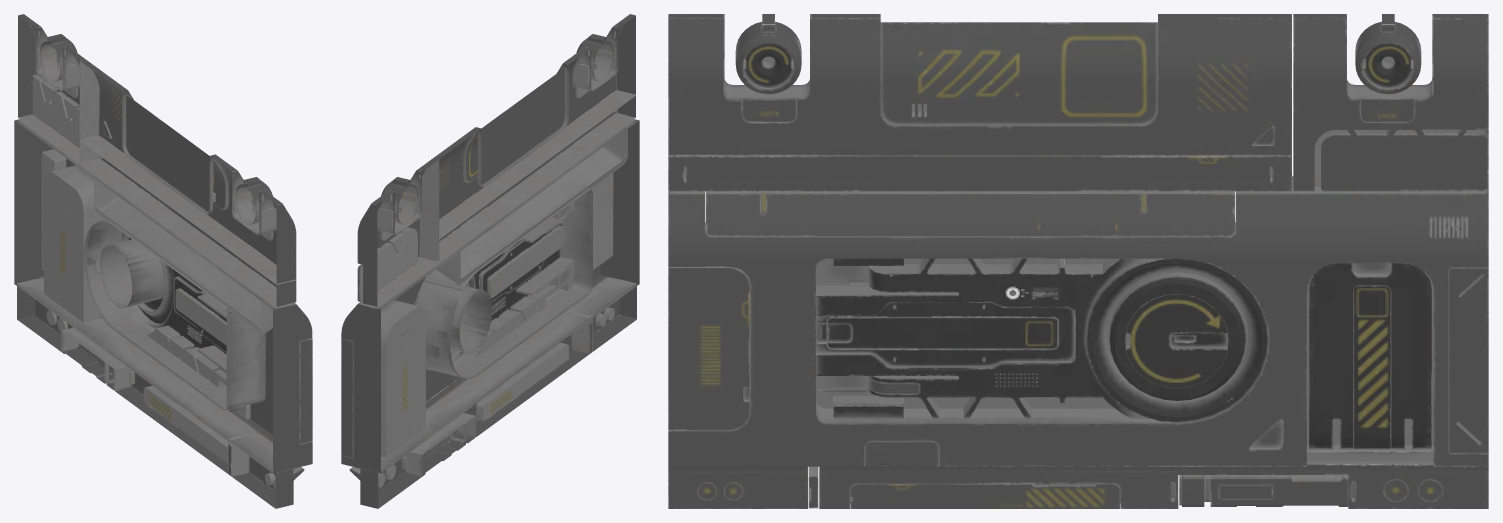
Rendered from wall06-opt.glb.
3 views of the same model, side by side, from view 1: azimuth 30°, elevation 25°; view 2: azimuth 150°, elevation 25°; view 3: azimuth 270°, elevation 25° (orthographic). The views are drawn at different scales.
Parts seen in each view (by area): view 1: Cube.006; view 2: Cube.006; view 3: Cube.006.
Boxes of the visible parts, left/top/right/bottom form: Cube.006: left=14, top=14, right=312, bottom=508; Cube.006: left=341, top=14, right=639, bottom=508; Cube.006: left=668, top=14, right=1488, bottom=508.
Size of the model in its own units: 0.4067 by 3 by 4.63.
1 material, 1 textured.
